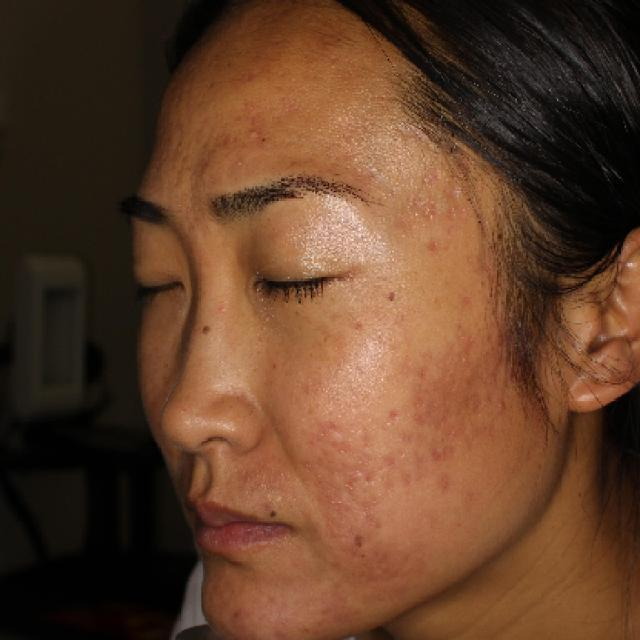acne: (258, 498, 291, 528), (380, 282, 408, 310)
